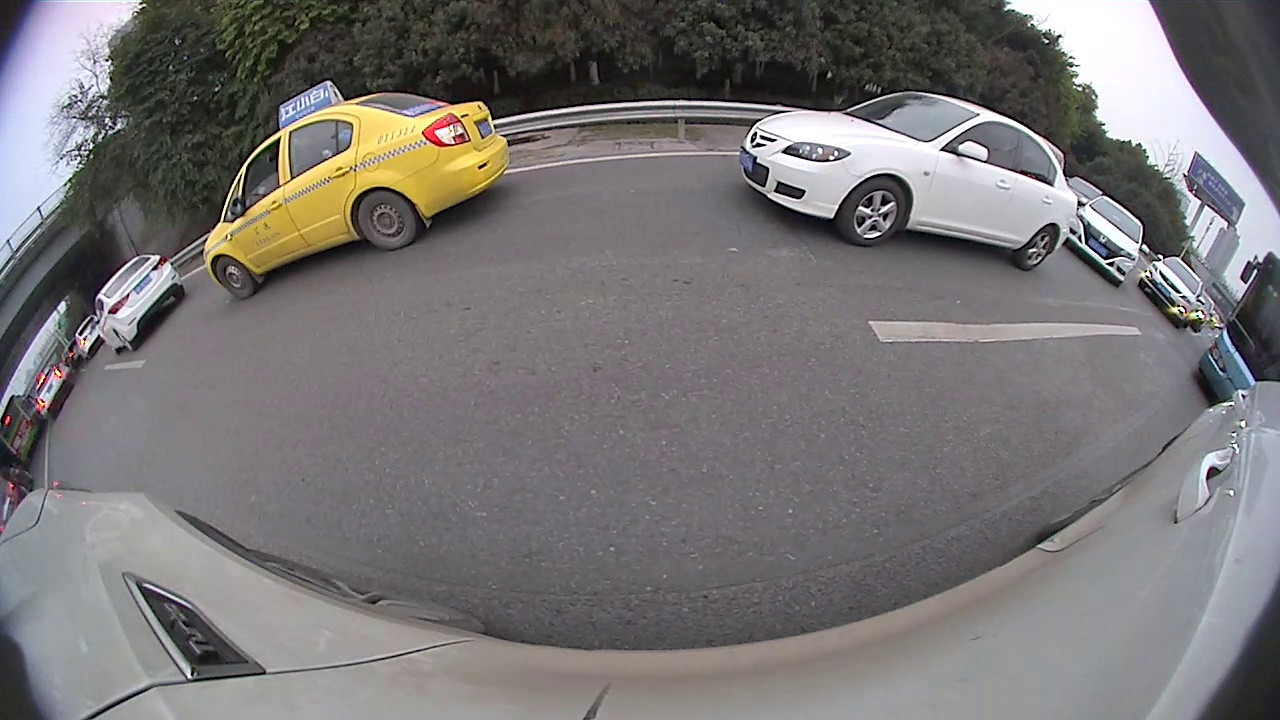bus: (1196, 251, 1278, 417)
car: (198, 75, 514, 303), (739, 87, 1081, 274), (90, 252, 183, 358), (1072, 193, 1147, 286), (1143, 253, 1207, 329), (26, 358, 77, 425)
front: (837, 176, 912, 250), (212, 252, 256, 301)
rear: (354, 188, 418, 251), (1011, 222, 1059, 272), (117, 330, 138, 355)
